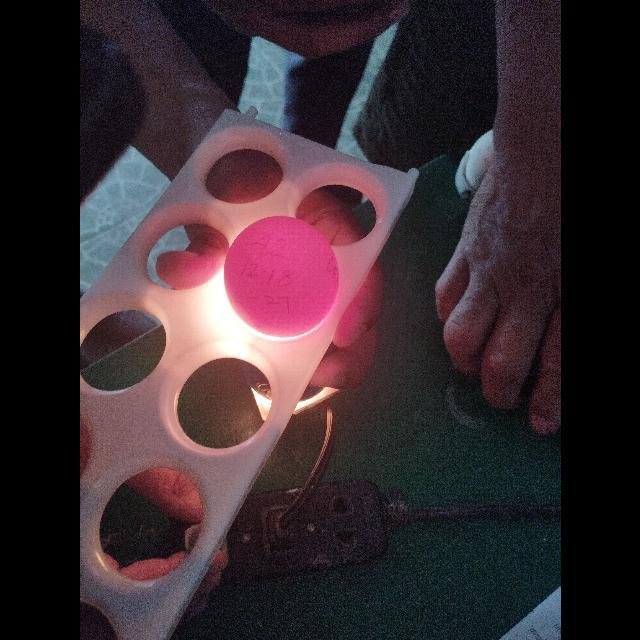Infertile: (224, 218, 336, 332)
